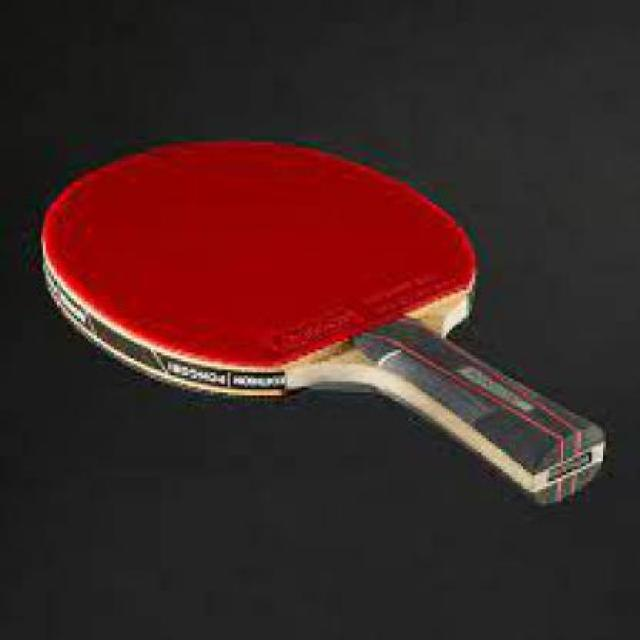table_tennis_racket: (31, 138, 488, 394)
